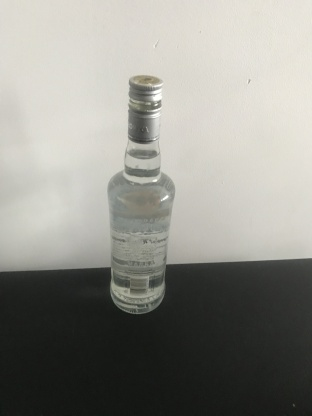nakretka: (126, 72, 164, 145)
